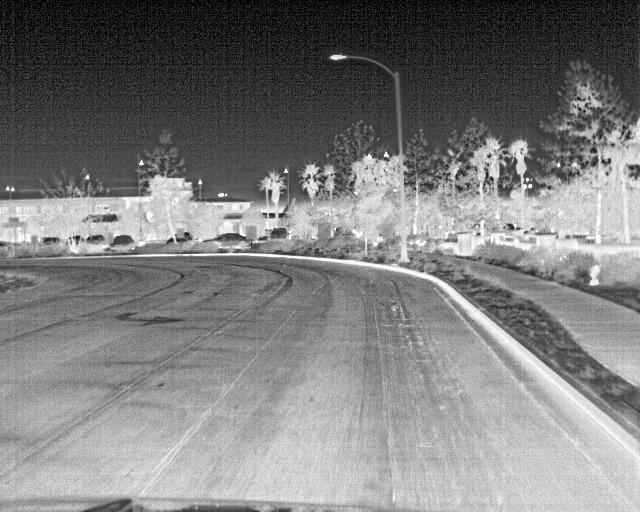car: (202, 233, 249, 251), (110, 237, 137, 255), (82, 233, 108, 247), (269, 226, 289, 240)
